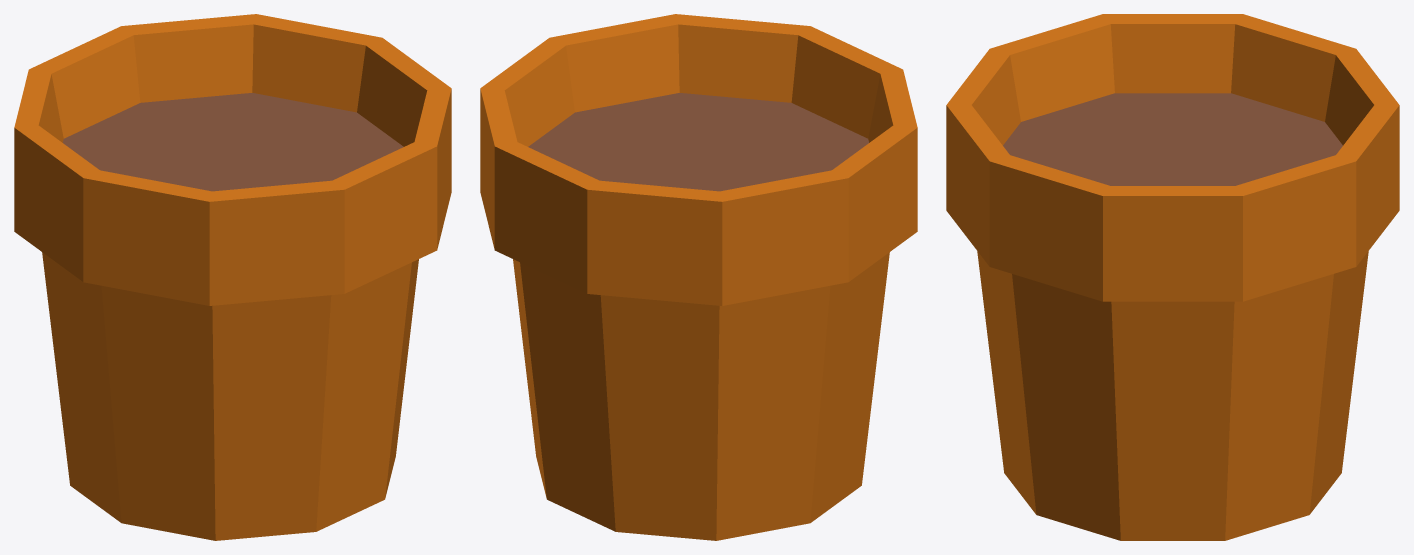
Rendered from flowerpot_filled.glb.
3 views of the same model, side by side, from view 1: azimuth 30°, elevation 25°; view 2: azimuth 150°, elevation 25°; view 3: azimuth 270°, elevation 25° (orthographic).
Visible parts, largest first — view 1: flowerpot_filled; view 2: flowerpot_filled; view 3: flowerpot_filled.
Boxes of the visible parts, x1,y1,x2,y2 form: flowerpot_filled: [14, 14, 451, 540]; flowerpot_filled: [480, 14, 917, 540]; flowerpot_filled: [946, 14, 1399, 540].
Bounding box in the file's own units: 2.14 × 2.02 × 2.25.
1 material, 1 textured.
